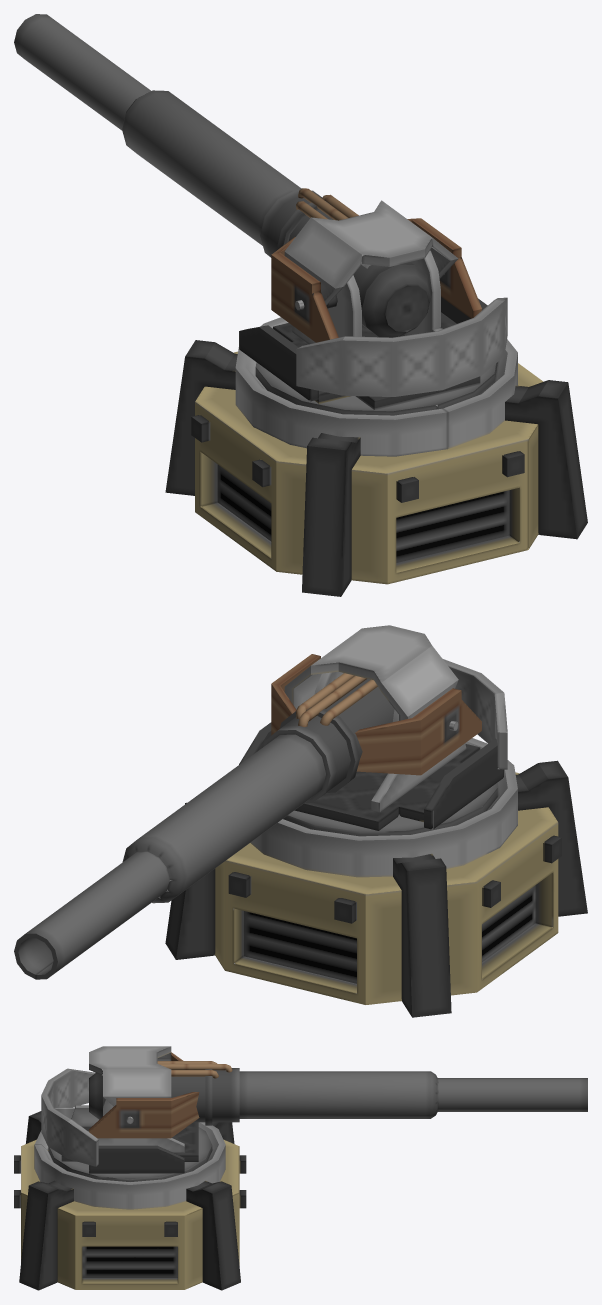
The model's file is turret_arty.obj.
3 renders of one model, top to bottom at view 1: azimuth 30°, elevation 25°; view 2: azimuth 150°, elevation 25°; view 3: azimuth 270°, elevation 25°, orthographic. The views are drawn at different scales.
Parts seen in each view (by area): view 1: Base, Cannon, Carriage, Barrel; view 2: Base, Cannon, Carriage, Barrel; view 3: Base, Cannon, Carriage, Barrel.
Boxes of the visible parts, x1,y1,x2,y2 form: Base: (165, 317, 587, 596); Cannon: (122, 90, 481, 342); Carriage: (239, 250, 507, 415); Barrel: (14, 14, 150, 130); Base: (165, 738, 587, 1017); Cannon: (122, 625, 481, 903); Carriage: (239, 659, 507, 836); Barrel: (14, 851, 169, 979); Base: (14, 1111, 246, 1290); Cannon: (89, 1046, 437, 1138); Carriage: (41, 1068, 212, 1181); Barrel: (437, 1078, 587, 1111).
Size of the model in its own units: 4.25 by 3.75 by 10.5.
